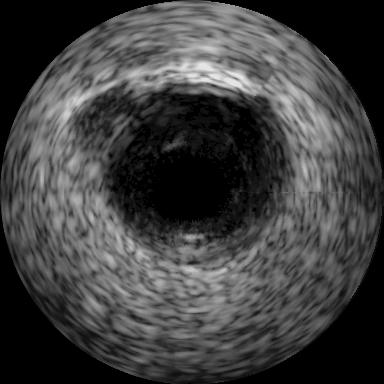Lumen: (149, 152, 230, 230)
